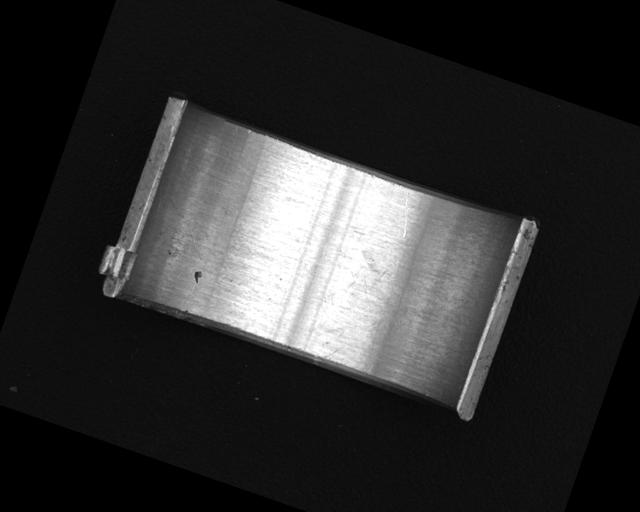blot: (344, 245, 409, 312)
bruise: (189, 268, 205, 286)
nick: (391, 191, 420, 238)
